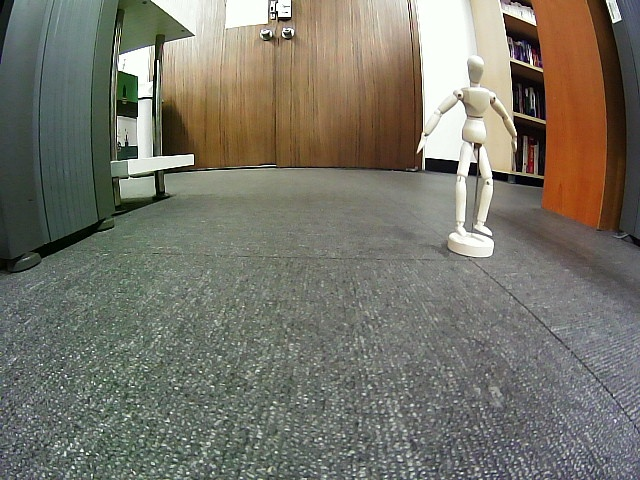person: (417, 55, 518, 238)
